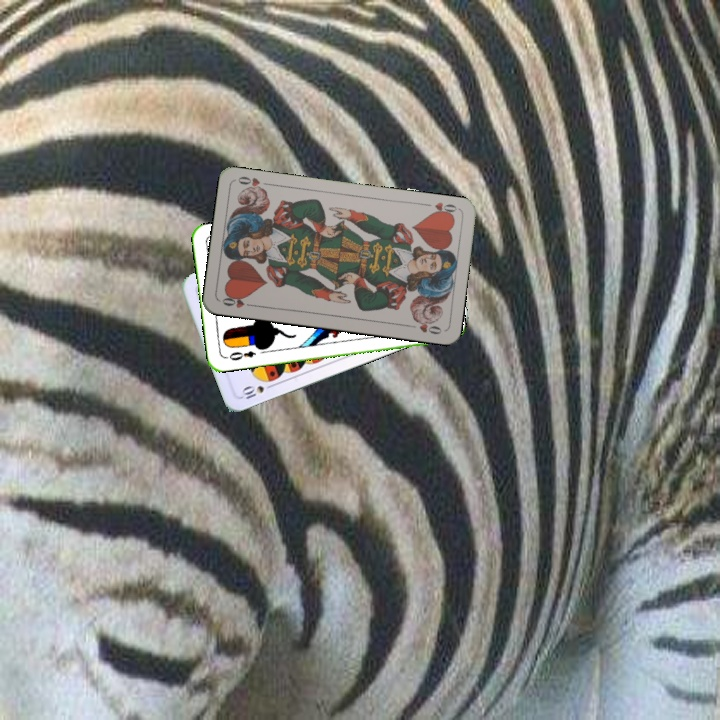EO: (222, 347, 258, 363)
HO: (218, 291, 258, 310), (427, 198, 460, 219)
S10: (237, 380, 277, 403)
